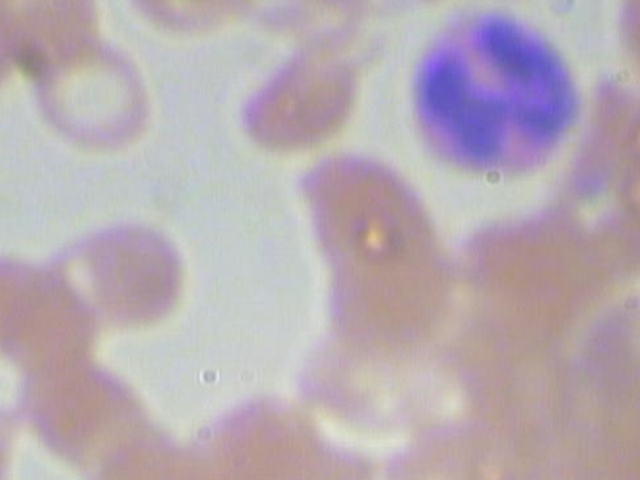WBC: (397, 0, 599, 180)
